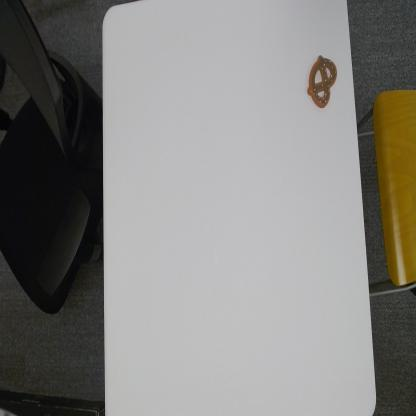Pretzel: (306, 51, 337, 109)
